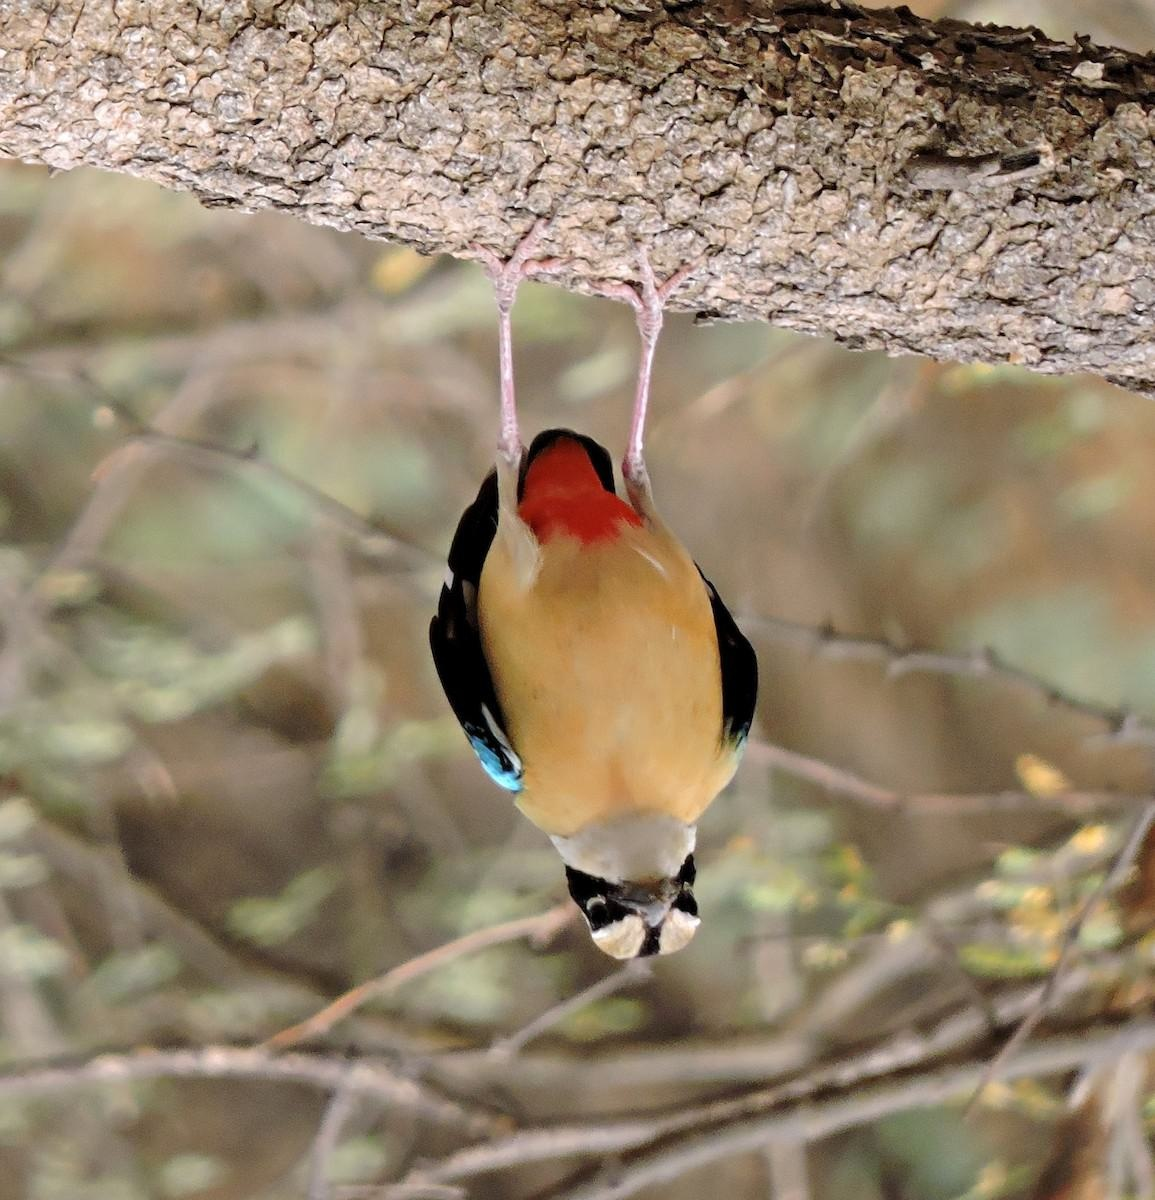pitta: (434, 286, 765, 982)
